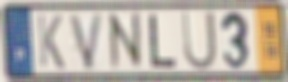3: (219, 8, 255, 73)
K: (35, 13, 66, 72)
L: (147, 12, 179, 70)
N: (105, 9, 145, 74)
U: (180, 9, 219, 73)
V: (67, 11, 105, 72)
